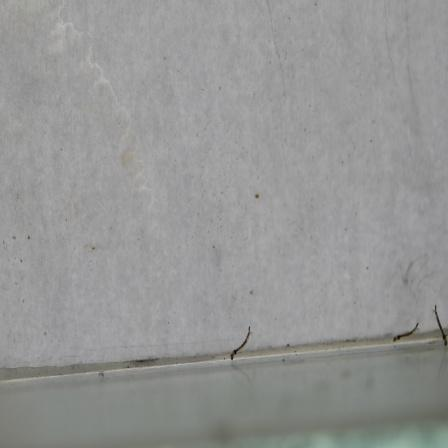Jentik-Nyamuk: (227, 322, 254, 363), (390, 319, 422, 345), (430, 302, 448, 348)
